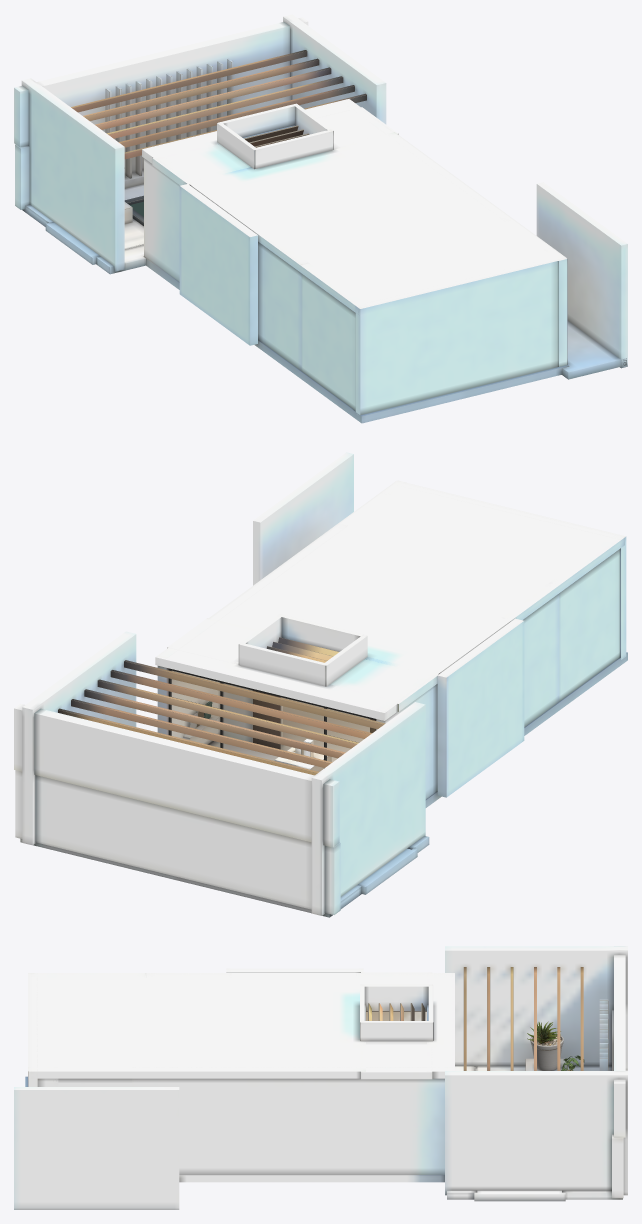
The model's file is studio_pov.glb.
3 renders of one model, top to bottom at view 1: azimuth 30°, elevation 25°; view 2: azimuth 150°, elevation 25°; view 3: azimuth 270°, elevation 25°, orthographic. The views are drawn at different scales.
Visible parts, largest first — view 1: Set_01_Shell_Baked, Set_04_Courtyard_Baked, Set_02_Joinery_Baked; view 2: Set_01_Shell_Baked, Set_04_Courtyard_Baked, Set_02_Joinery_Baked, Set_03_Monoliths_Baked; view 3: Set_01_Shell_Baked, Set_04_Courtyard_Baked, Set_02_Joinery_Baked, PH_Courtyard_Plant_W1.
Boxes of the visible parts, x1=… form: Set_01_Shell_Baked: x1=142, y1=99, x2=569, y2=423; Set_04_Courtyard_Baked: x1=14, y1=14, x2=627, y2=379; Set_02_Joinery_Baked: x1=71, y1=50, x2=366, y2=159; Set_01_Shell_Baked: x1=155, y1=480, x2=627, y2=807; Set_04_Courtyard_Baked: x1=14, y1=452, x2=429, y2=917; Set_02_Joinery_Baked: x1=58, y1=637, x2=385, y2=775; Set_03_Monoliths_Baked: x1=183, y1=701, x2=331, y2=771; Set_01_Shell_Baked: x1=25, y1=968, x2=454, y2=1182; Set_04_Courtyard_Baked: x1=14, y1=946, x2=627, y2=1209; Set_02_Joinery_Baked: x1=368, y1=967, x2=583, y2=1070; PH_Courtyard_Plant_W1: x1=527, y1=1021, x2=563, y2=1070.
Size of the model in its own units: 13.35 by 5.71 by 24.15.
Materials: 24 (21 with a texture image).
